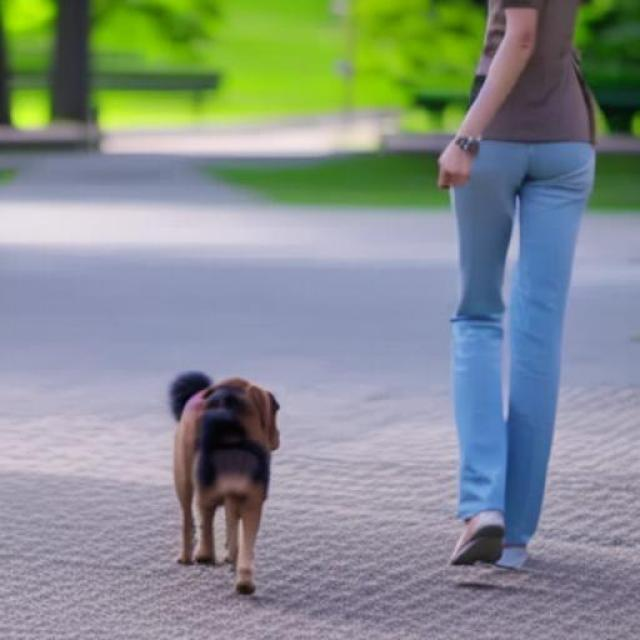Unleashed_Dog: (168, 141, 594, 595)
